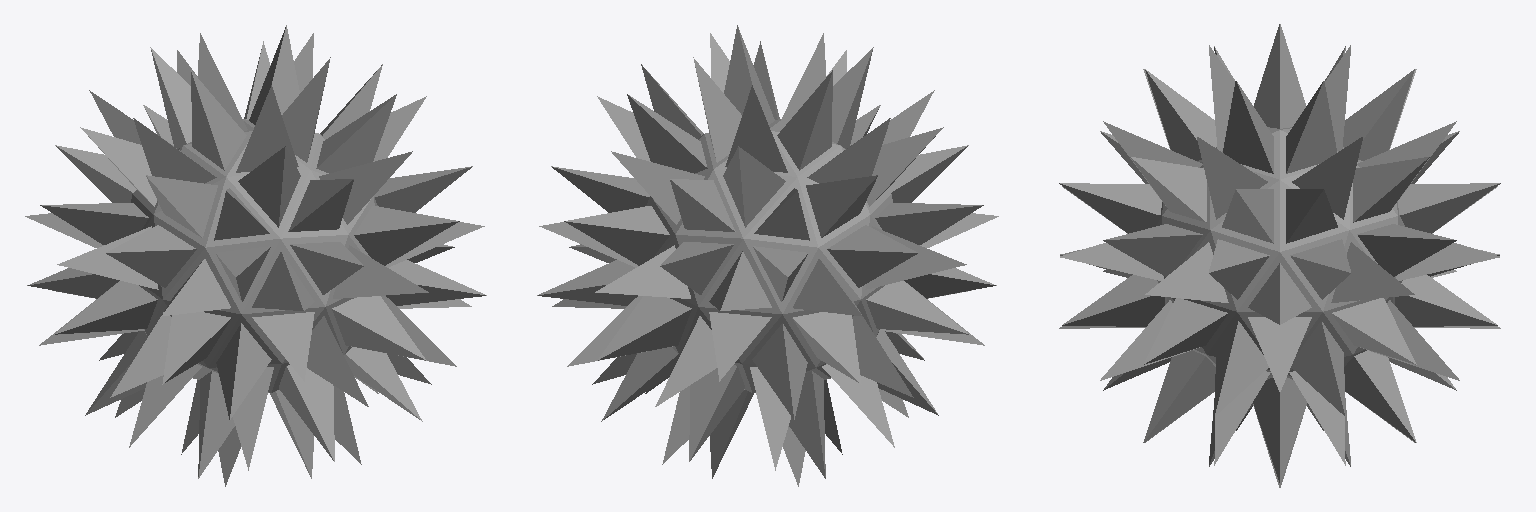
Rendered from spiky.obj.
3 views of the same model, side by side, from view 1: azimuth 30°, elevation 25°; view 2: azimuth 150°, elevation 25°; view 3: azimuth 270°, elevation 25° (orthographic).
Visible parts, largest first — view 1: Sphere; view 2: Sphere; view 3: Sphere.
Boxes of the visible parts, x1,y1,x2,y2 form: Sphere: [25, 25, 486, 486]; Sphere: [537, 25, 998, 486]; Sphere: [1059, 24, 1500, 487].
Size of the model in its own units: 3.85 by 3.68 by 3.66.